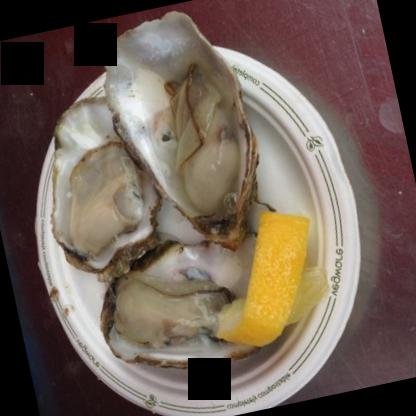oyster: (98, 0, 268, 262), (94, 238, 264, 382), (31, 96, 166, 272)
